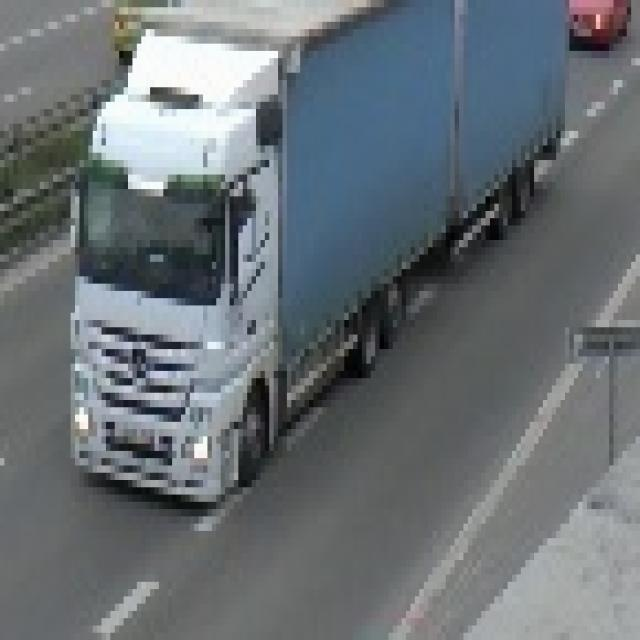TRUCK: (70, 0, 570, 488)
